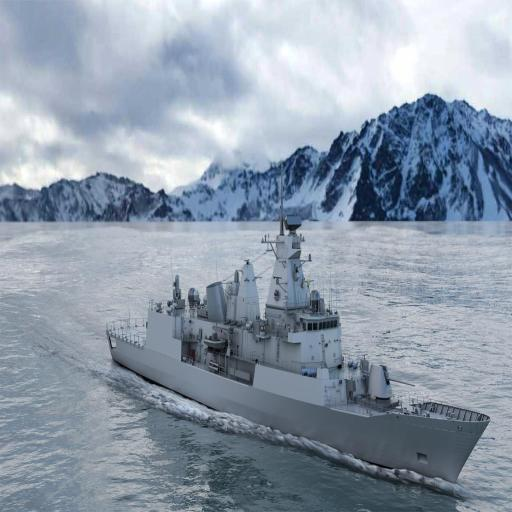Fragata: (1, 150, 339, 495)
